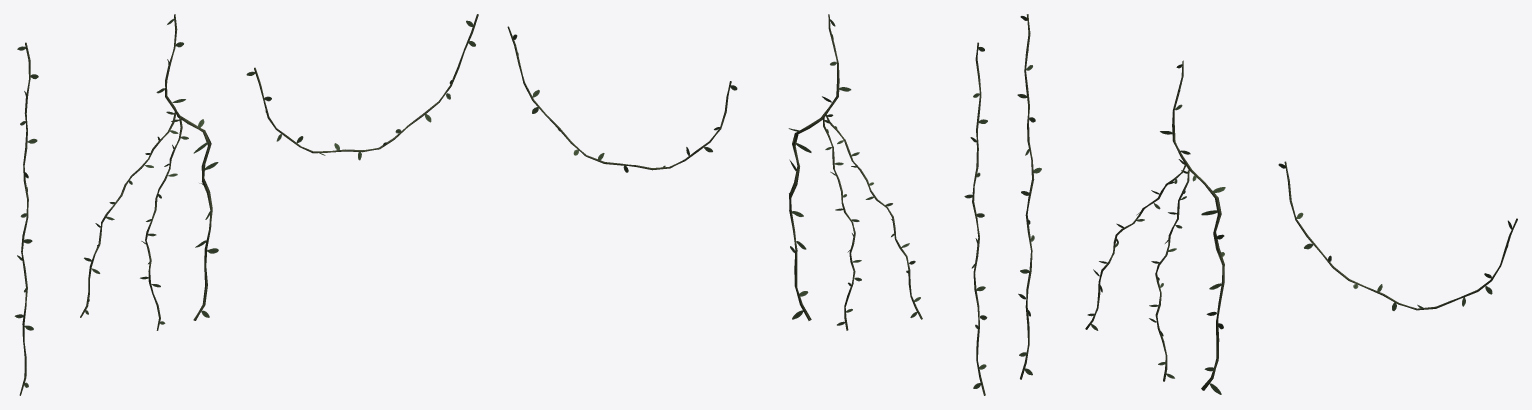
The model's file is Vine_grpv02.fbx.
3 views of the same model, side by side, from view 1: azimuth 30°, elevation 25°; view 2: azimuth 150°, elevation 25°; view 3: azimuth 330°, elevation 25° (orthographic). The views are drawn at different scales.
Parts seen in each view (by area): view 1: vine_02, vine_05, vine_04, vine_01, vine_03; view 2: vine_02, vine_05, vine_04, vine_01, vine_03; view 3: vine_02, vine_05, vine_04, vine_03, vine_01.
Boxes of the visible parts, x1,y1,x2,y2 form: vine_02: [156, 14, 218, 320]; vine_05: [14, 42, 38, 395]; vine_04: [246, 14, 478, 160]; vine_01: [80, 111, 178, 317]; vine_03: [140, 117, 188, 330]; vine_02: [788, 14, 851, 320]; vine_05: [964, 42, 987, 395]; vine_04: [507, 26, 737, 172]; vine_01: [825, 113, 922, 319]; vine_03: [823, 118, 861, 330]; vine_02: [1160, 60, 1225, 394]; vine_05: [1017, 14, 1041, 379]; vine_04: [1278, 161, 1517, 310]; vine_03: [1149, 170, 1189, 381]; vine_01: [1085, 159, 1185, 330].
Bounding box in the file's own units: 3.12 × 2.22 × 0.2711.
Materials: 2 (2 with a texture image).
